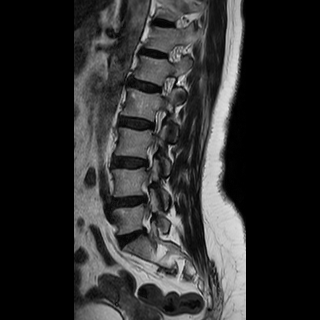LFS0: (151, 71, 182, 102)
